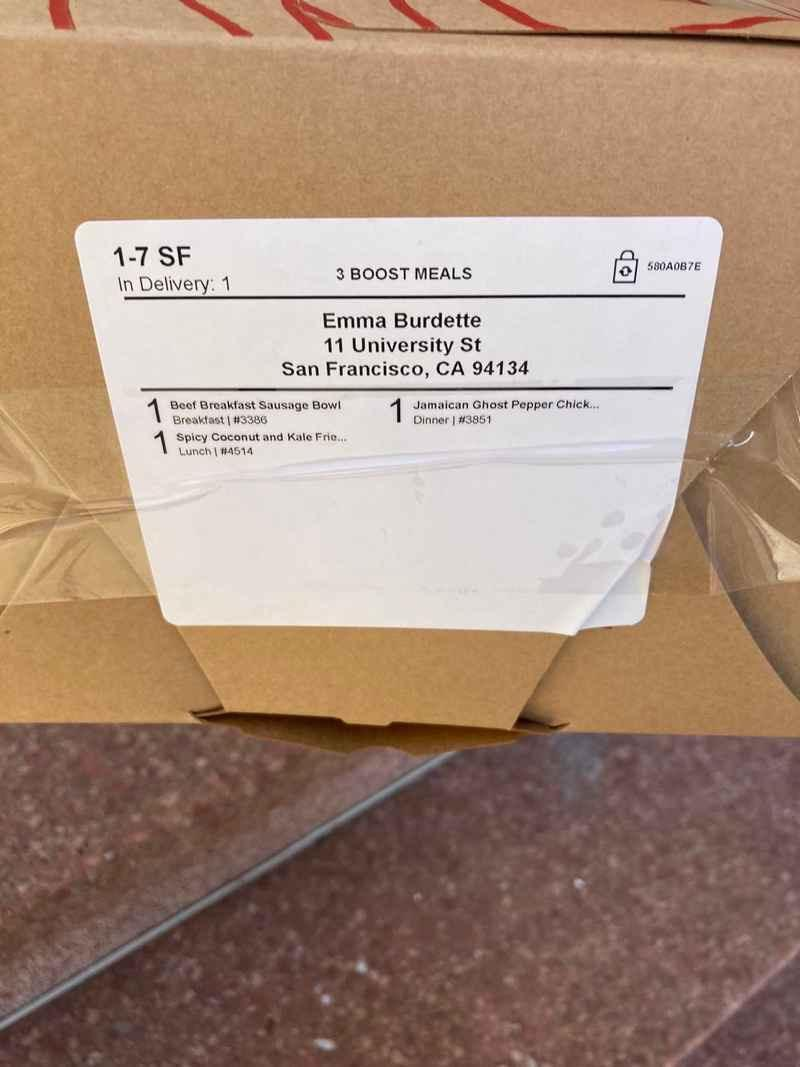package: (0, 0, 799, 742)
